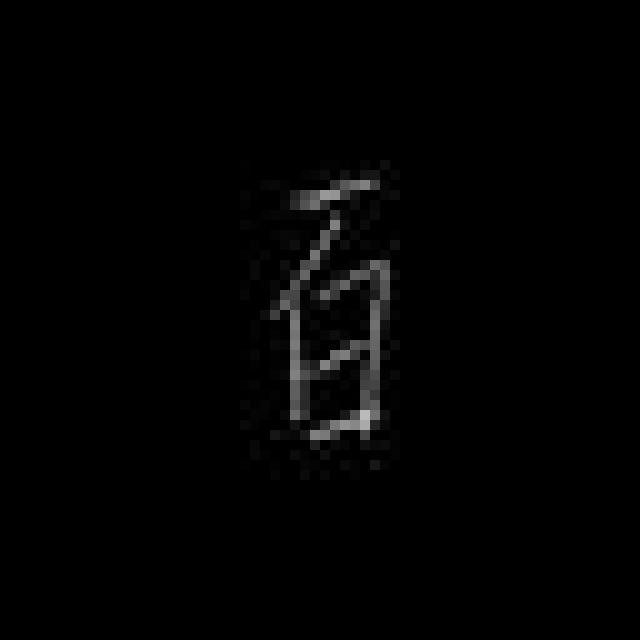100 -a hundred-: (255, 159, 406, 452)
